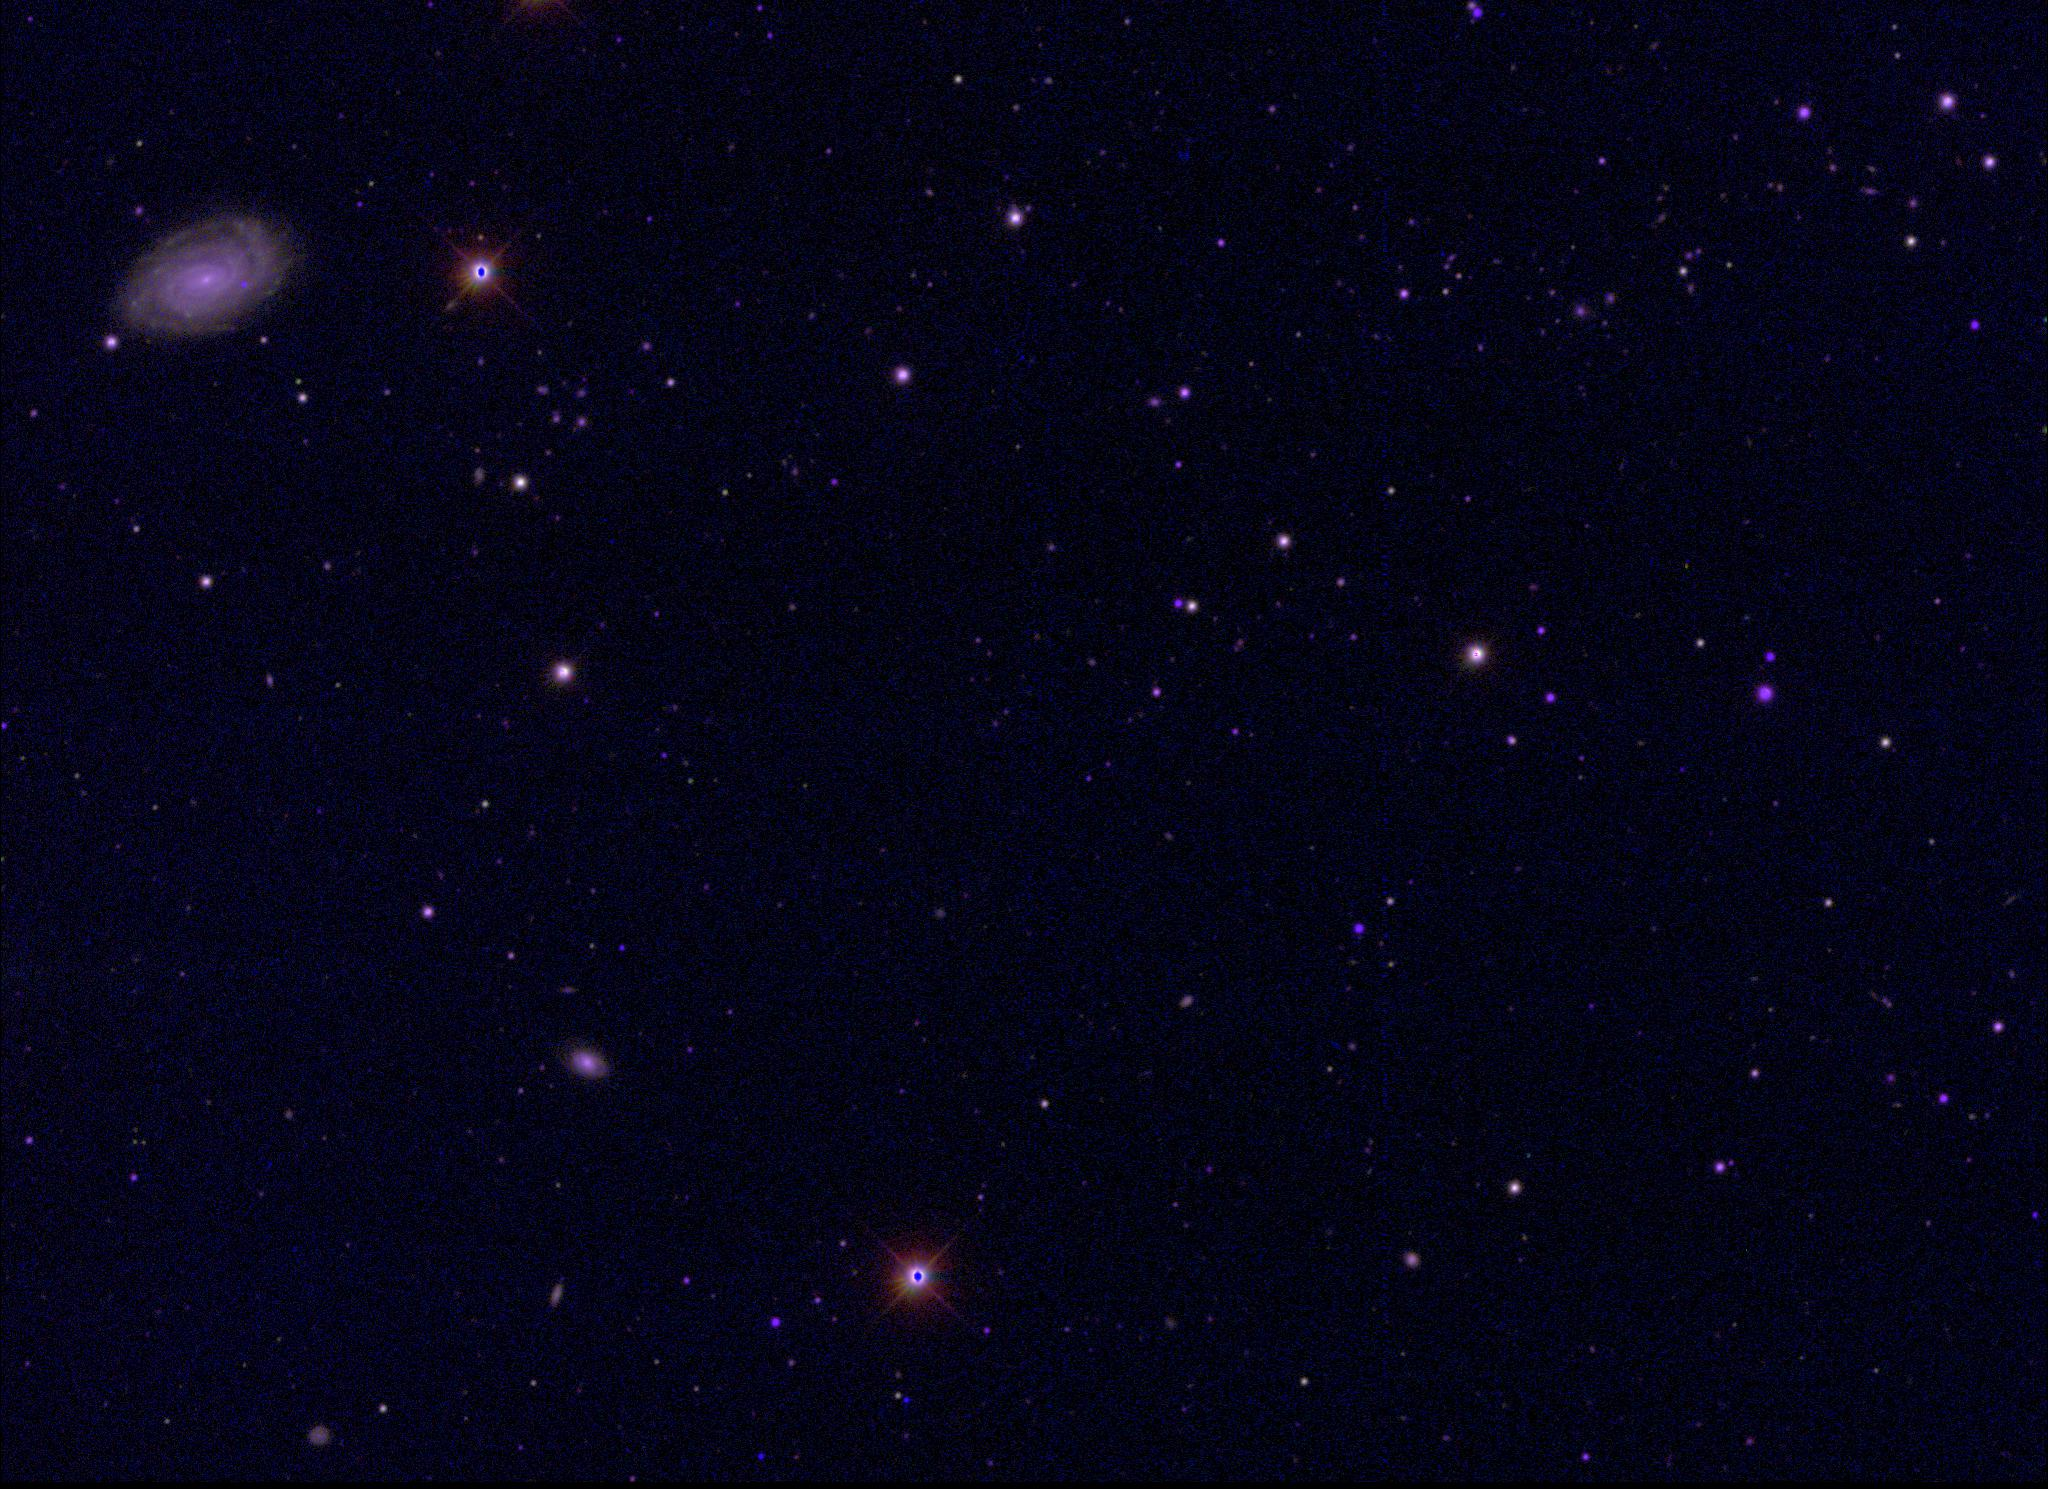L: (754, 1449, 768, 1464), (898, 1394, 913, 1406)
